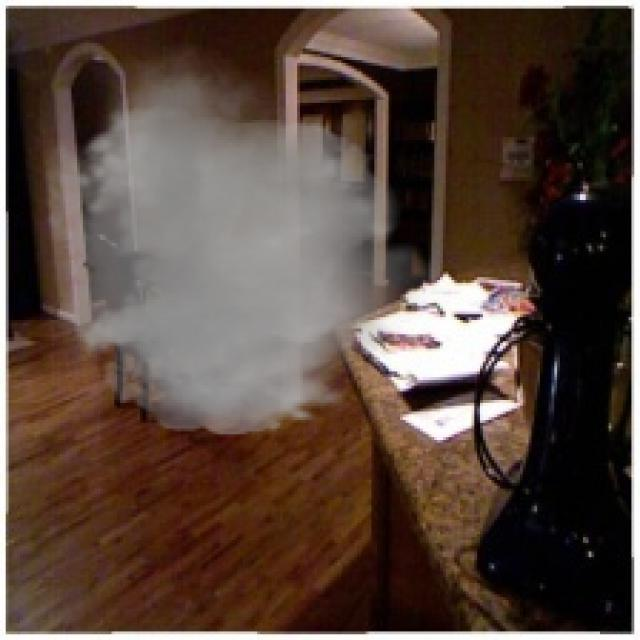Smoke: (29, 43, 448, 446)
